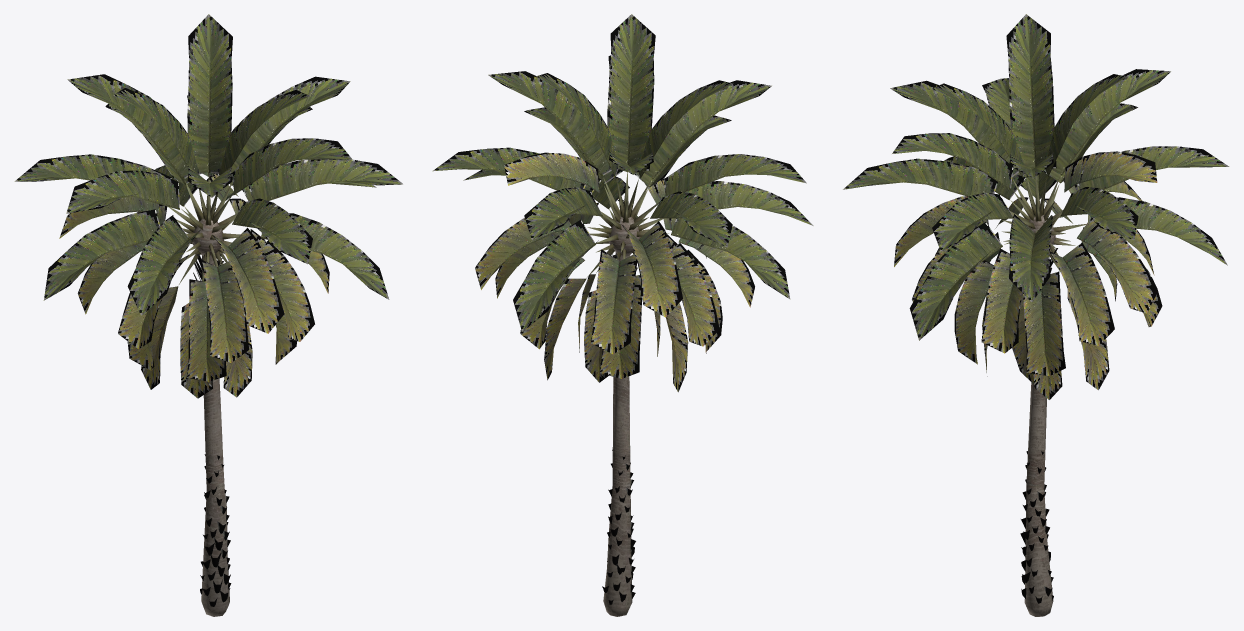
Rendered from tropical-palm-tall-a-close.glb.
3 views of the same model, side by side, from view 1: azimuth 30°, elevation 25°; view 2: azimuth 150°, elevation 25°; view 3: azimuth 270°, elevation 25° (orthographic).
Parts seen in each view (by area): view 1: palm_tree_tall_a_LOD0; view 2: palm_tree_tall_a_LOD0; view 3: palm_tree_tall_a_LOD0.
Boxes of the visible parts, x1,y1,x2,y2 form: palm_tree_tall_a_LOD0: (14,14,402,616); palm_tree_tall_a_LOD0: (432,14,813,616); palm_tree_tall_a_LOD0: (843,14,1229,616).
Size of the model in its own units: 16.88 by 27.43 by 17.24.
Materials: 1 (1 with a texture image).
